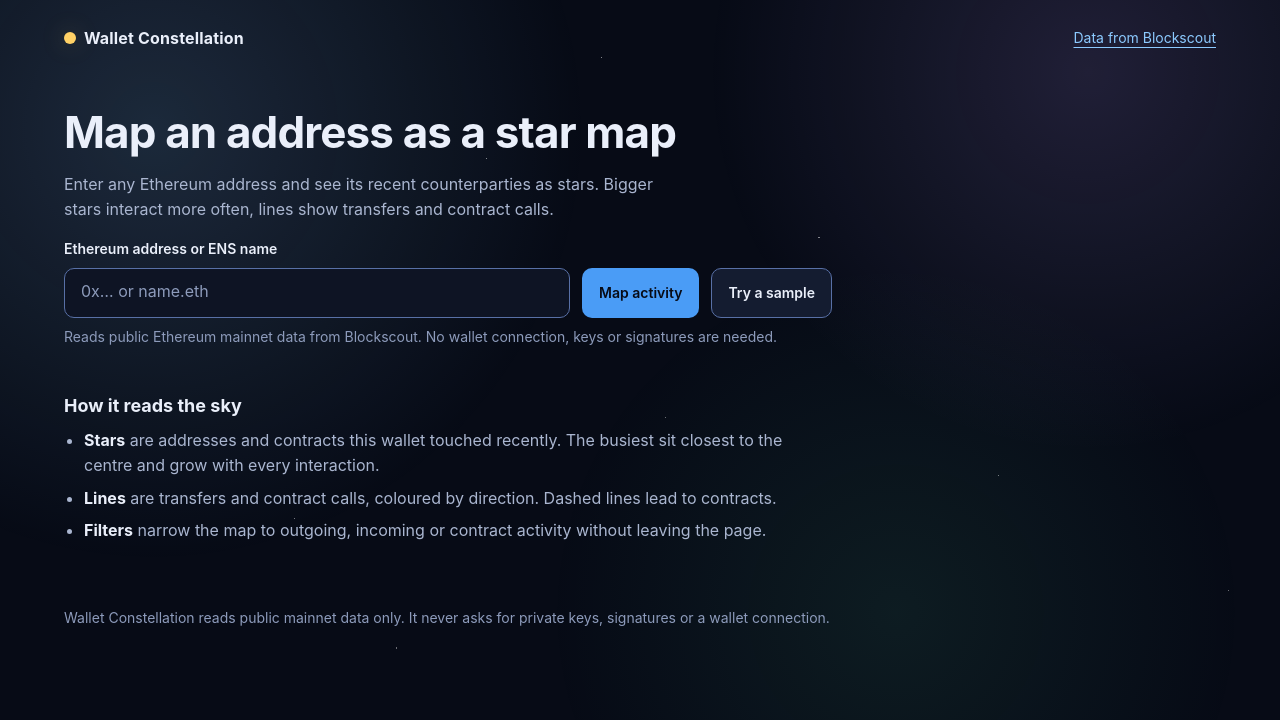
Wallet Constellation › reports a network failure with a retry action
Type "0xd8dA6BF26964aF9D7eEd9e03E53415D37aA96045" into the field labelled "Ethereum address or ENS name" at (317, 293), box x1=64 y1=268 x2=570 y2=318
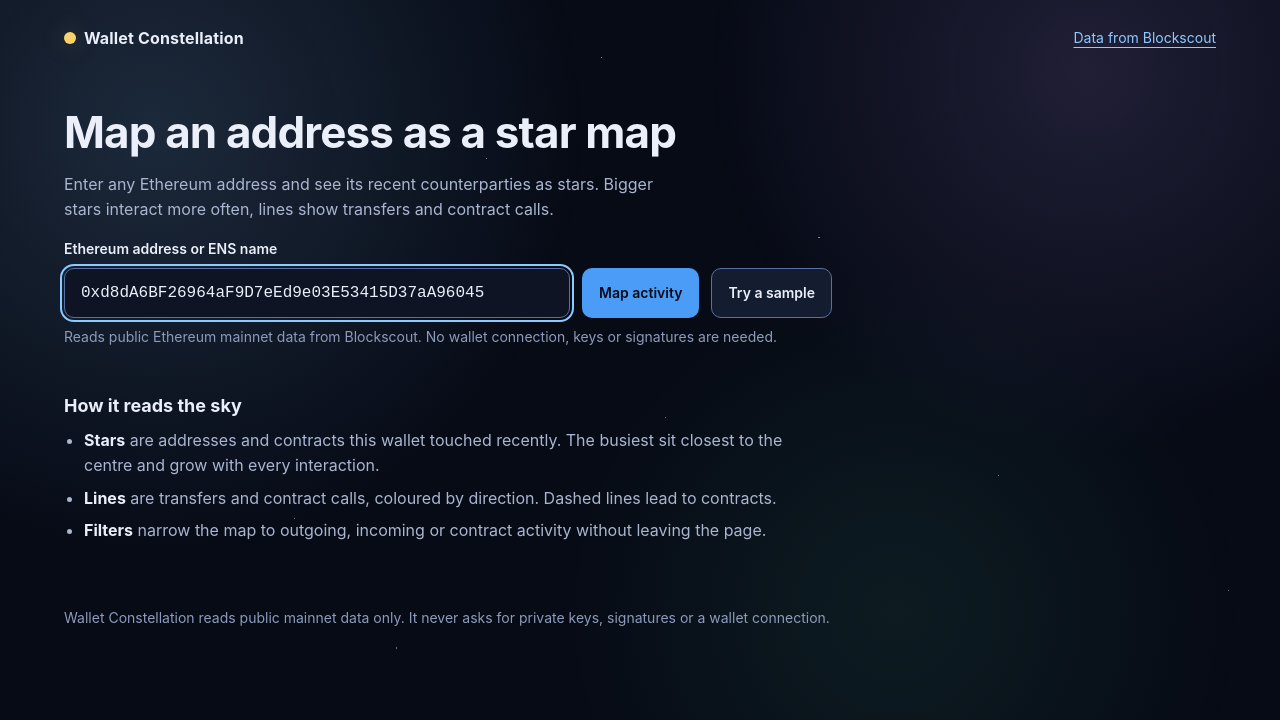
Click the button "Map activity" at (641, 293), box x1=582 y1=268 x2=699 y2=318
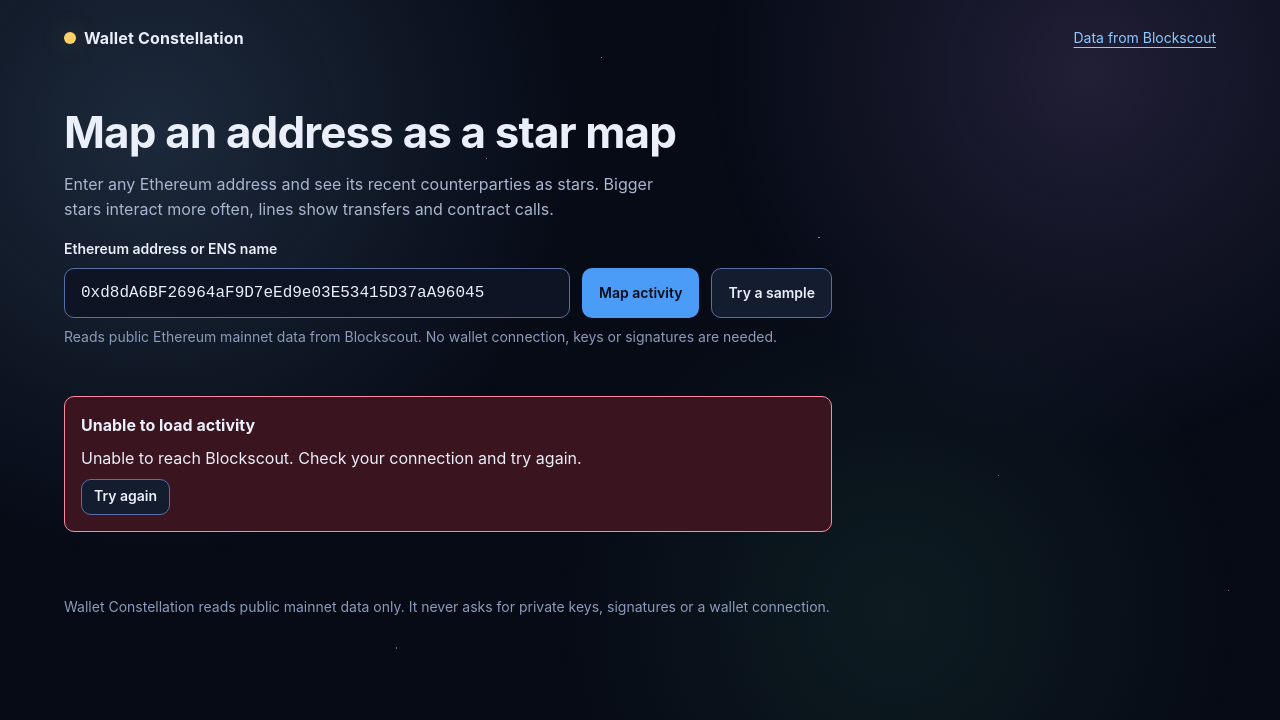
Expected: the message shows "Unable to reach Blockscout", x1=81 y1=448 x2=582 y2=468
Expected: the button "Try again" is shown, x1=81 y1=479 x2=170 y2=515
